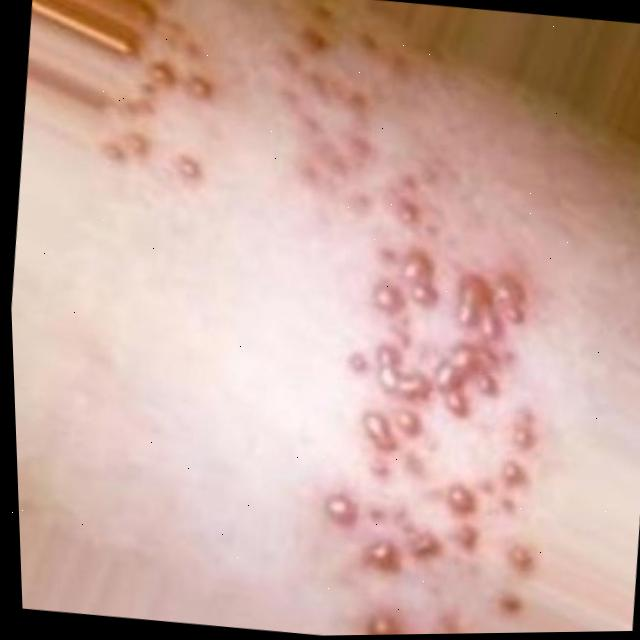Shingles: (290, 236, 565, 636), (103, 0, 440, 203)
